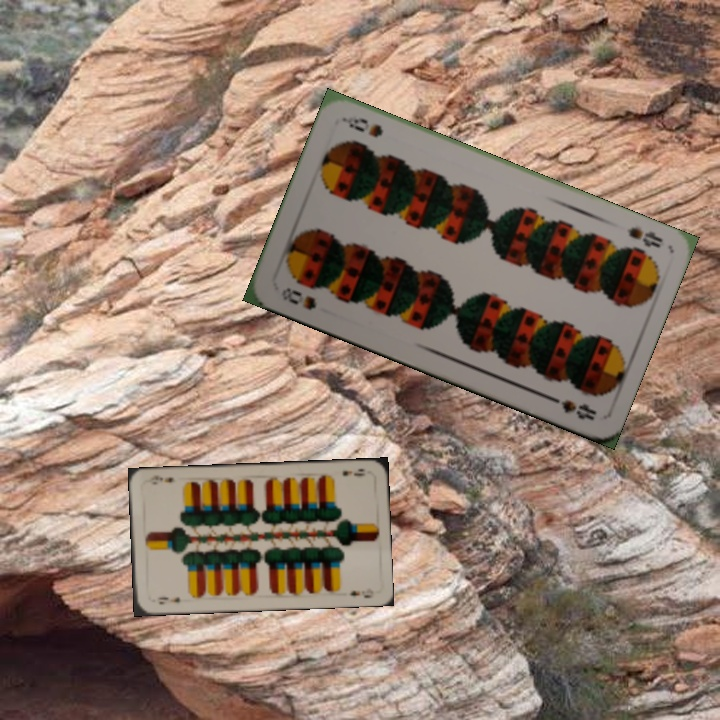E9: (154, 593, 183, 607), (339, 465, 368, 479)
S8: (277, 283, 319, 313), (623, 223, 666, 251)
